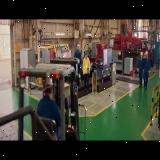Helmet: (42, 78, 54, 87), (140, 52, 144, 59), (85, 50, 88, 56), (145, 52, 148, 58), (77, 44, 79, 47)
